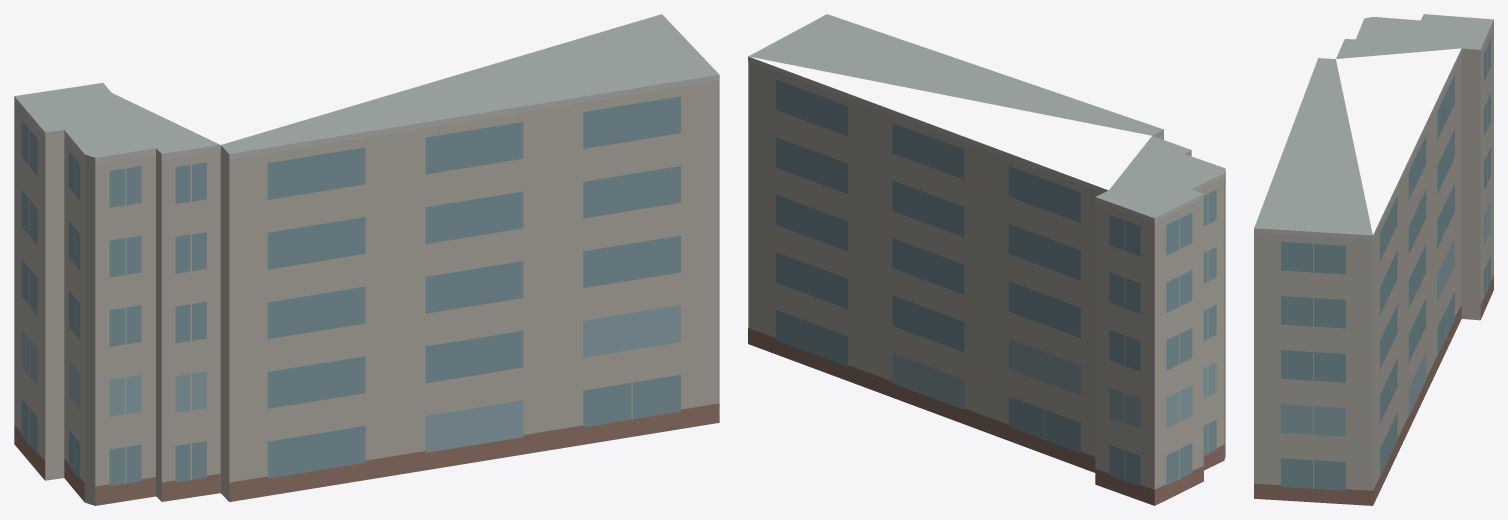
Rendered from survey-upis-32652546.glb.
3 views of the same model, side by side, from view 1: azimuth 30°, elevation 25°; view 2: azimuth 150°, elevation 25°; view 3: azimuth 270°, elevation 25° (orthographic). The views are drawn at different scales.
Visible parts, largest first — view 1: survey-upis-32652546.tmp; view 2: survey-upis-32652546.tmp; view 3: survey-upis-32652546.tmp.
Boxes of the visible parts, bbox=[...] form: survey-upis-32652546.tmp: bbox=[14, 14, 719, 505]; survey-upis-32652546.tmp: bbox=[748, 14, 1225, 505]; survey-upis-32652546.tmp: bbox=[1254, 14, 1493, 505].
Bounding box in the file's own units: 25.74 × 14.65 × 11.78.
